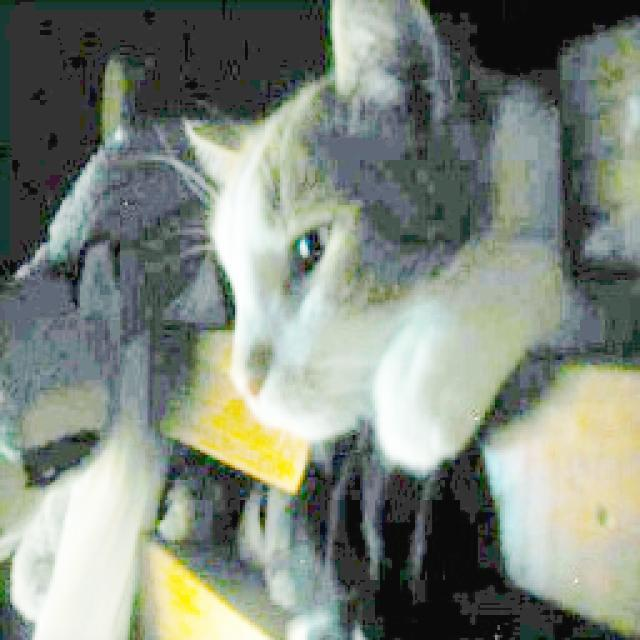cat: (167, 8, 612, 494)
